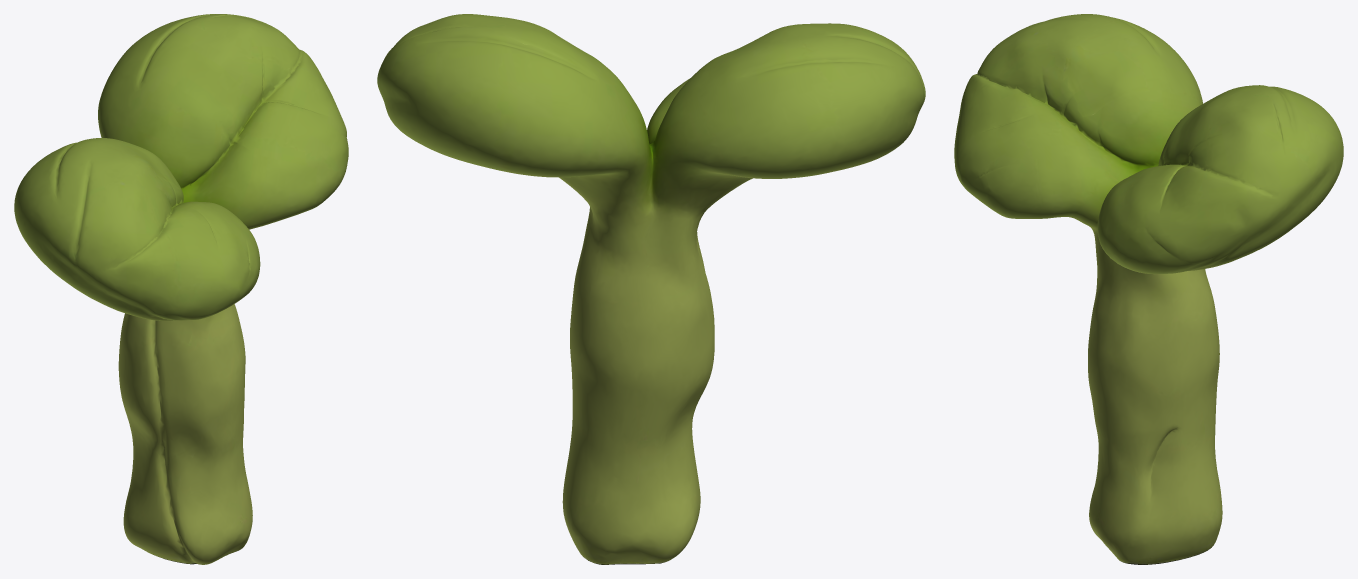
File: cosmos_s1.glb
3 renders of one model, left to right at view 1: azimuth 30°, elevation 25°; view 2: azimuth 150°, elevation 25°; view 3: azimuth 270°, elevation 25°, orthographic. The views are drawn at different scales.
Bounding box in the file's own units: 0.8102 × 1 × 0.7254.
Materials: 1 (1 with a texture image).
